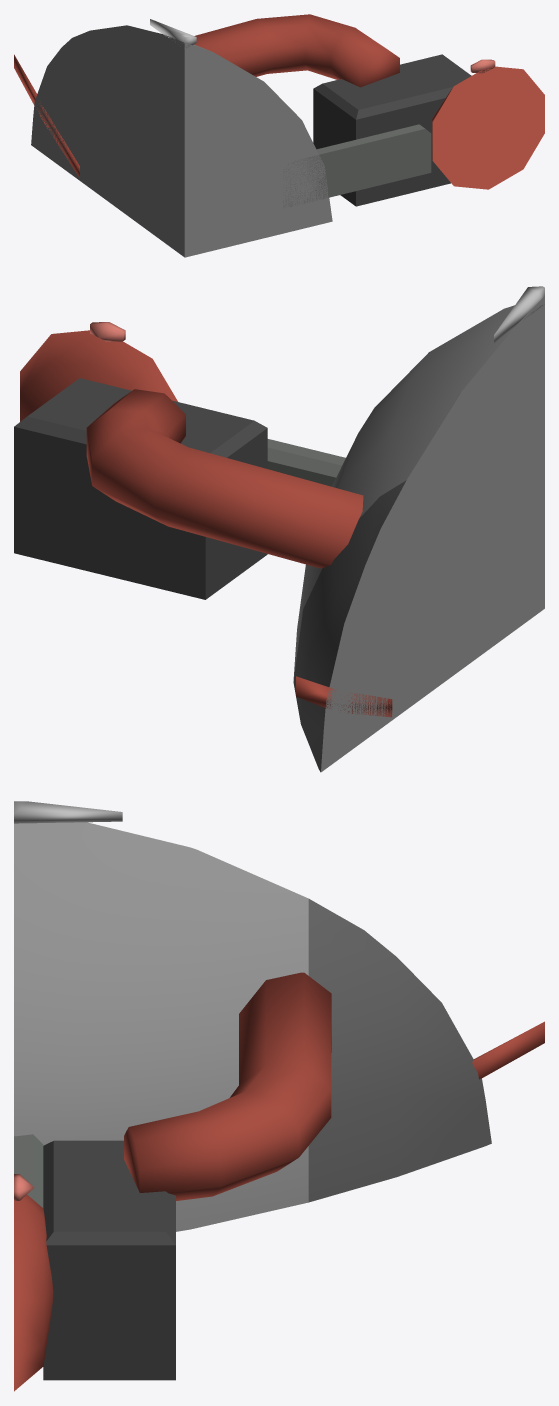
File: newshi-45.glb
3 views of the same model, one above another, from view 1: azimuth 30°, elevation 25°; view 2: azimuth 150°, elevation 25°; view 3: azimuth 270°, elevation 25° (orthographic). The views are drawn at different scales.
Parts seen in each view (by area): view 1: newshi-45; view 2: newshi-45; view 3: newshi-45.
Boxes of the visible parts, x1,y1,x2,y2 form: newshi-45: [14, 14, 544, 257]; newshi-45: [14, 286, 544, 772]; newshi-45: [14, 801, 544, 1391].
Bounding box in the file's own units: 1.83 × 1.1 × 1.5.
